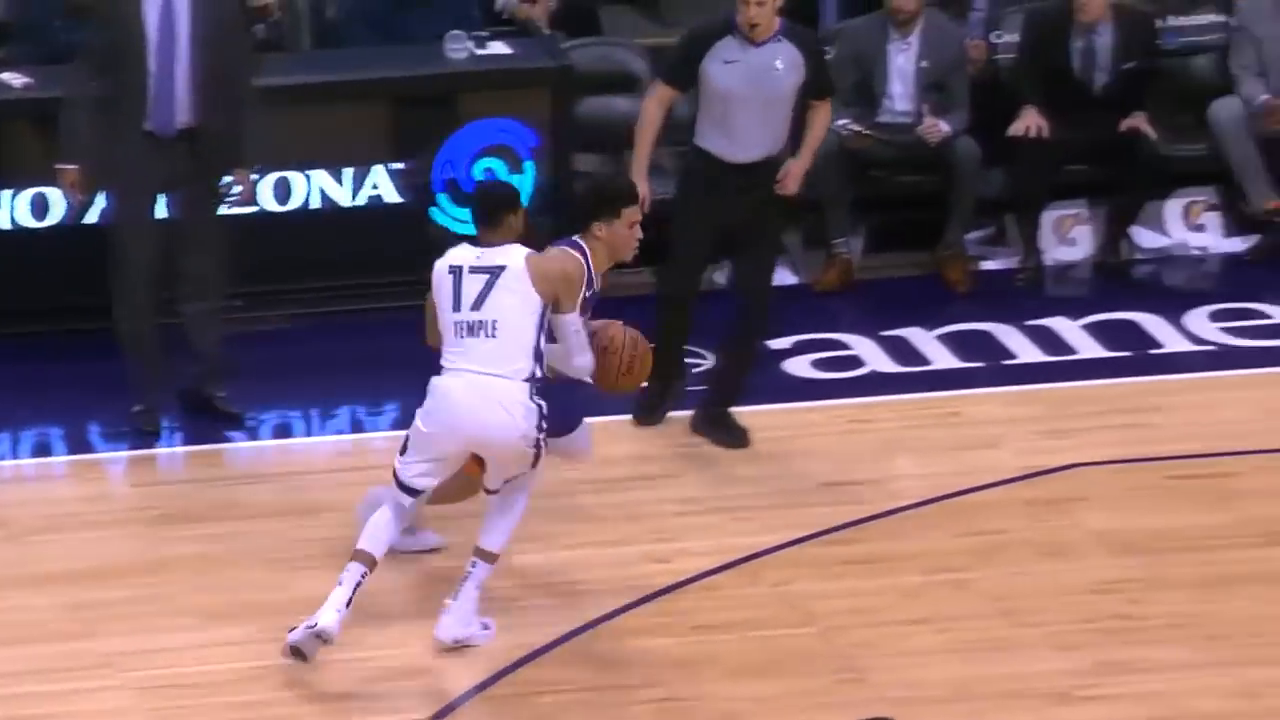ball: (588, 323, 653, 393)
